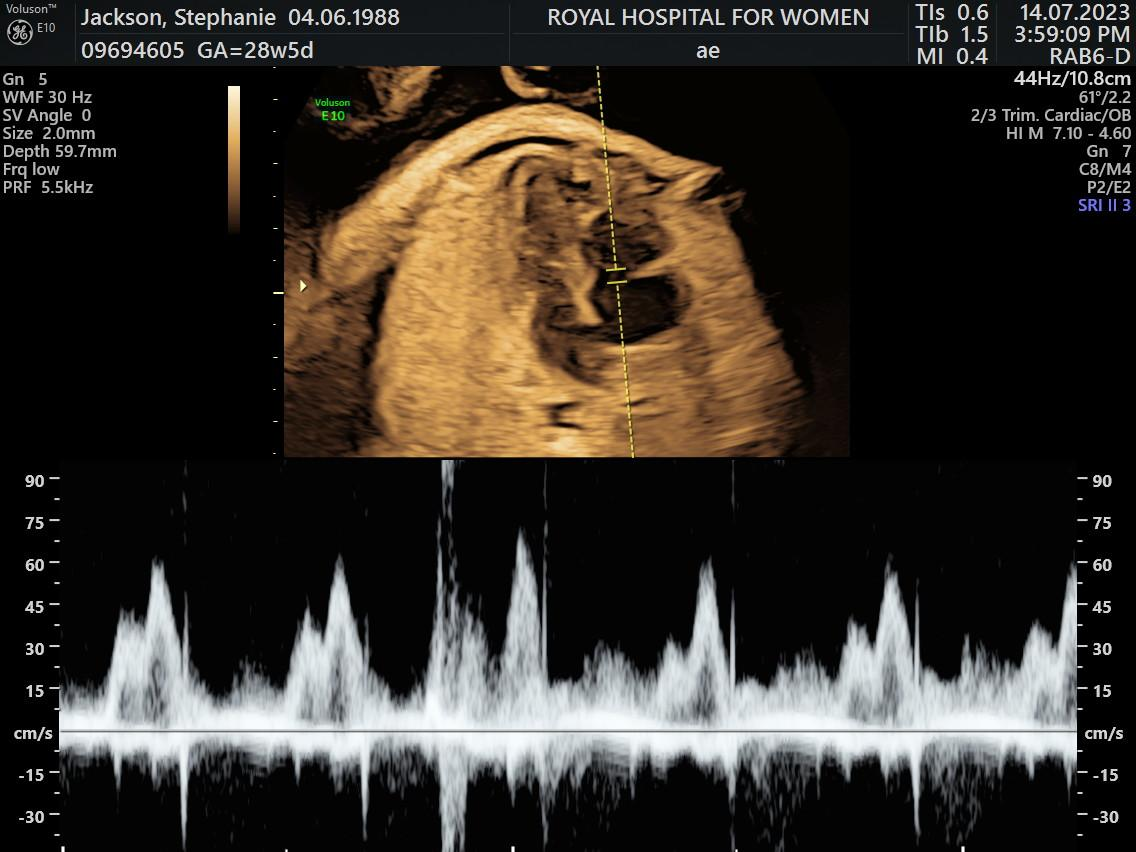Ultrasound-Waves: (63, 460, 1075, 851)
